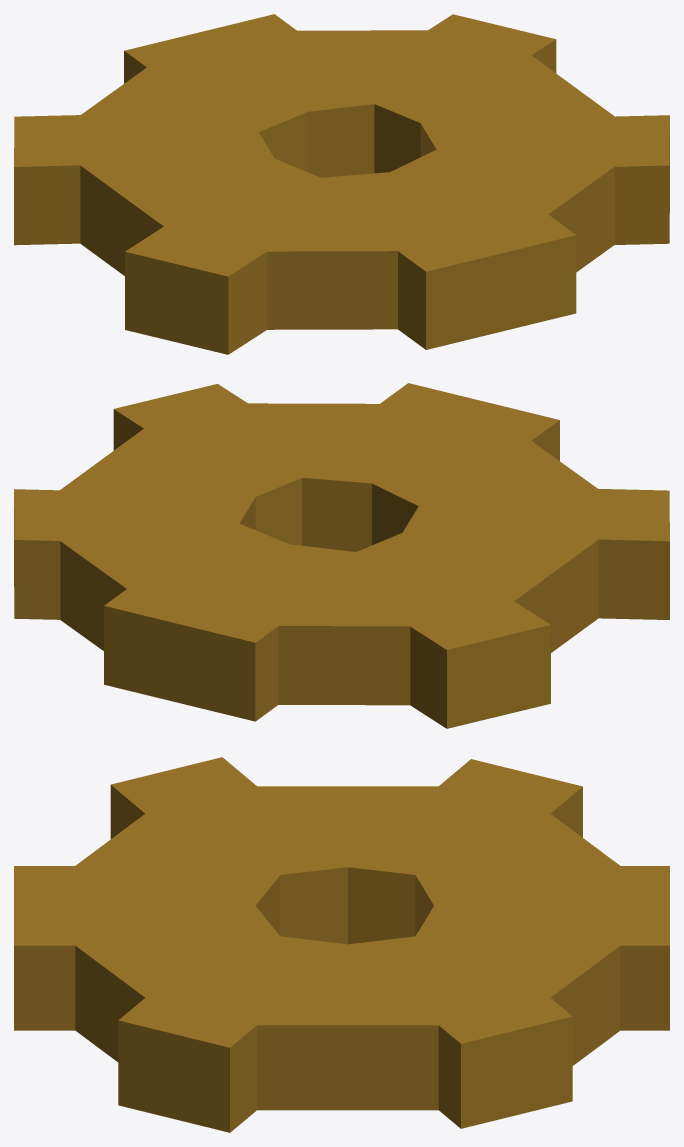
Rendered from GIMM370Gears Yellow.fbx.
3 renders of one model, top to bottom at view 1: azimuth 30°, elevation 25°; view 2: azimuth 150°, elevation 25°; view 3: azimuth 270°, elevation 25°, orthographic. The views are drawn at different scales.
Visible parts, largest first — view 1: Cube.003; view 2: Cube.003; view 3: Cube.003.
Part boxes in pixels (x1=…): Cube.003: x1=14, y1=14, x2=669, y2=354; Cube.003: x1=14, y1=383, x2=669, y2=728; Cube.003: x1=14, y1=757, x2=669, y2=1132.
Bounding box in the file's own units: 316 × 43.07 × 301.
